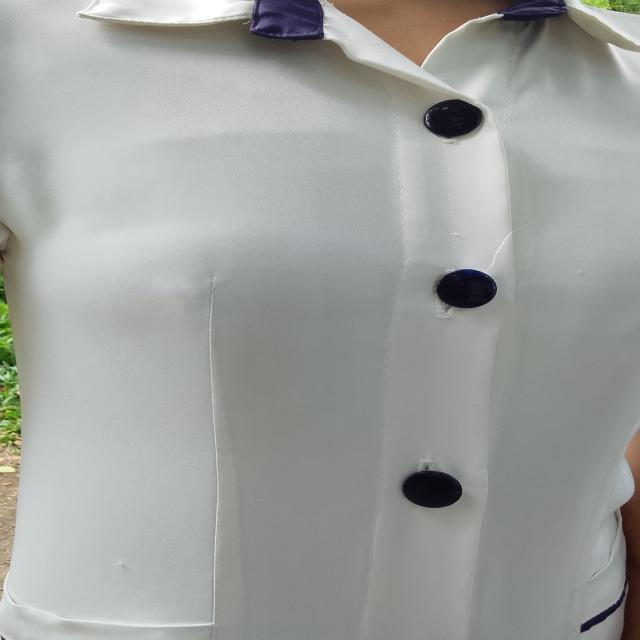education_female_uniform: (32, 3, 640, 636)
